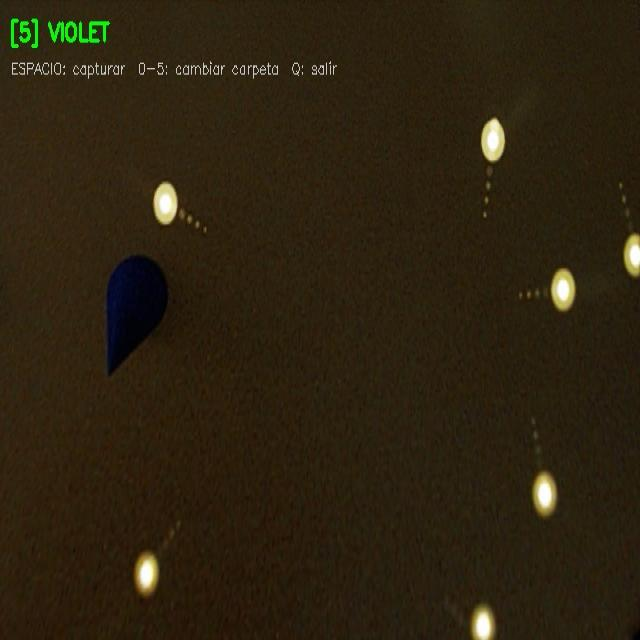violet: (107, 256, 167, 375)
